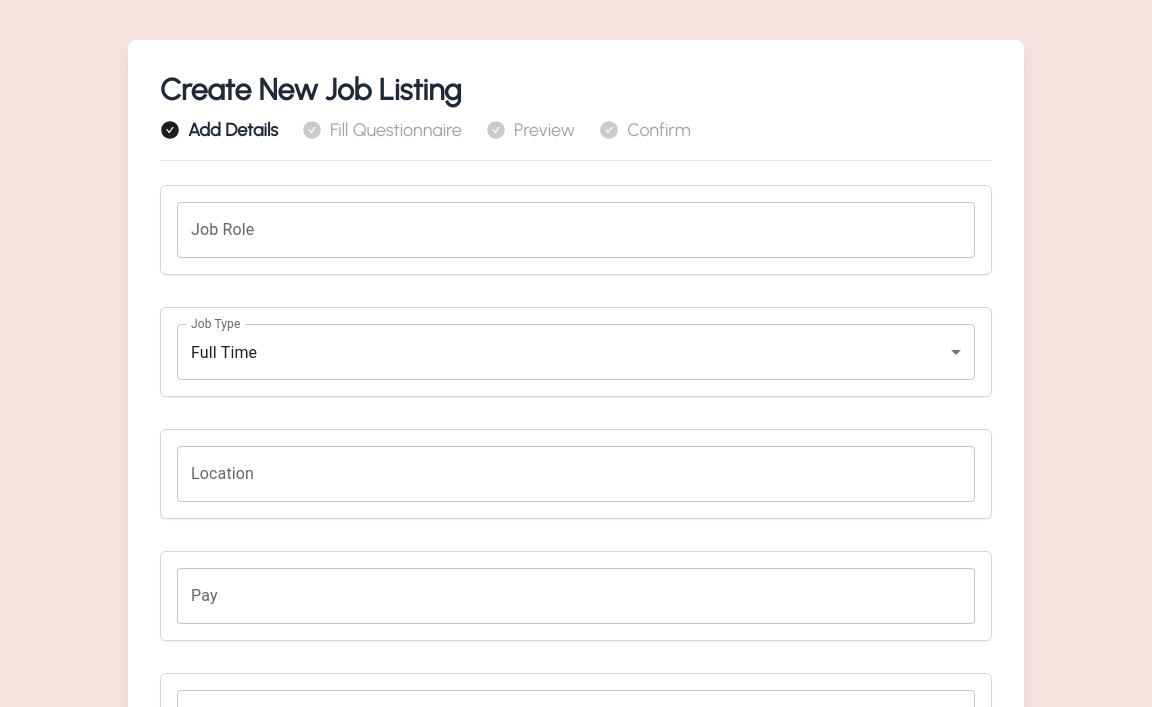
Test case: CreateJob Component › allows selecting job type from dropdown
# Open the dropdown for "Job Type"
Press the mouse on the dropdown named "Job Type" at (224, 352), box top-left (191, 342), bottom-right (257, 362)
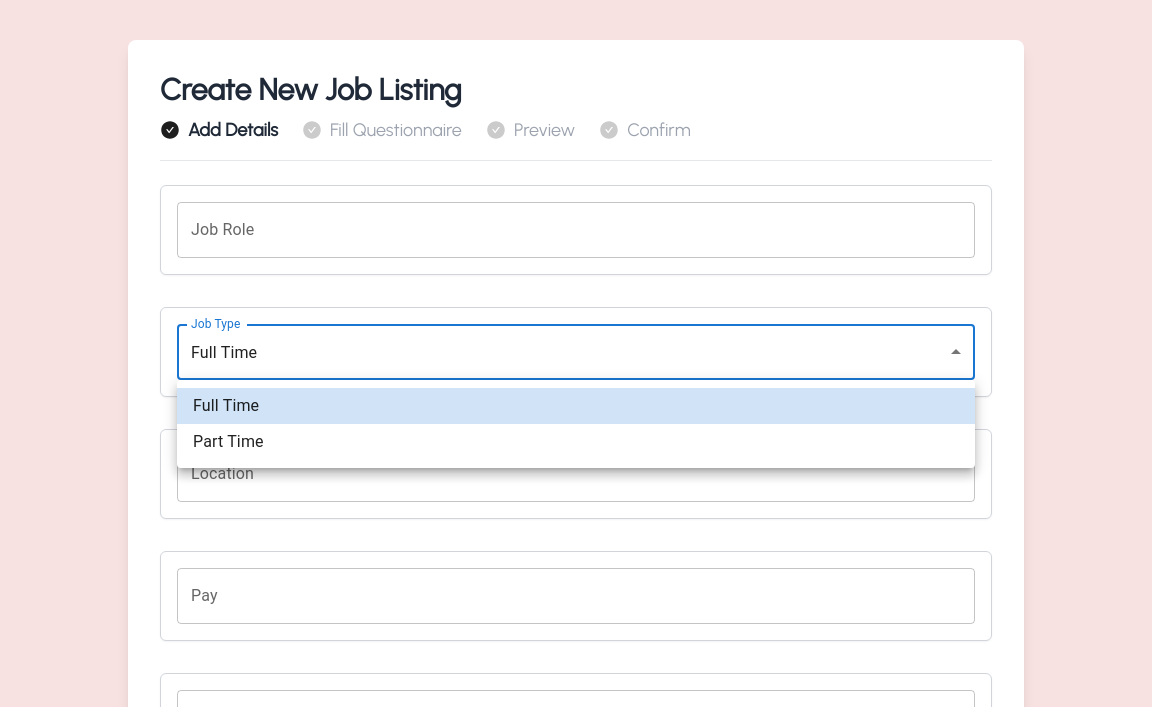
# Select "Part Time" from the dropdown options
Click the option "Part Time" at (228, 442), box top-left (193, 432), bottom-right (264, 451)
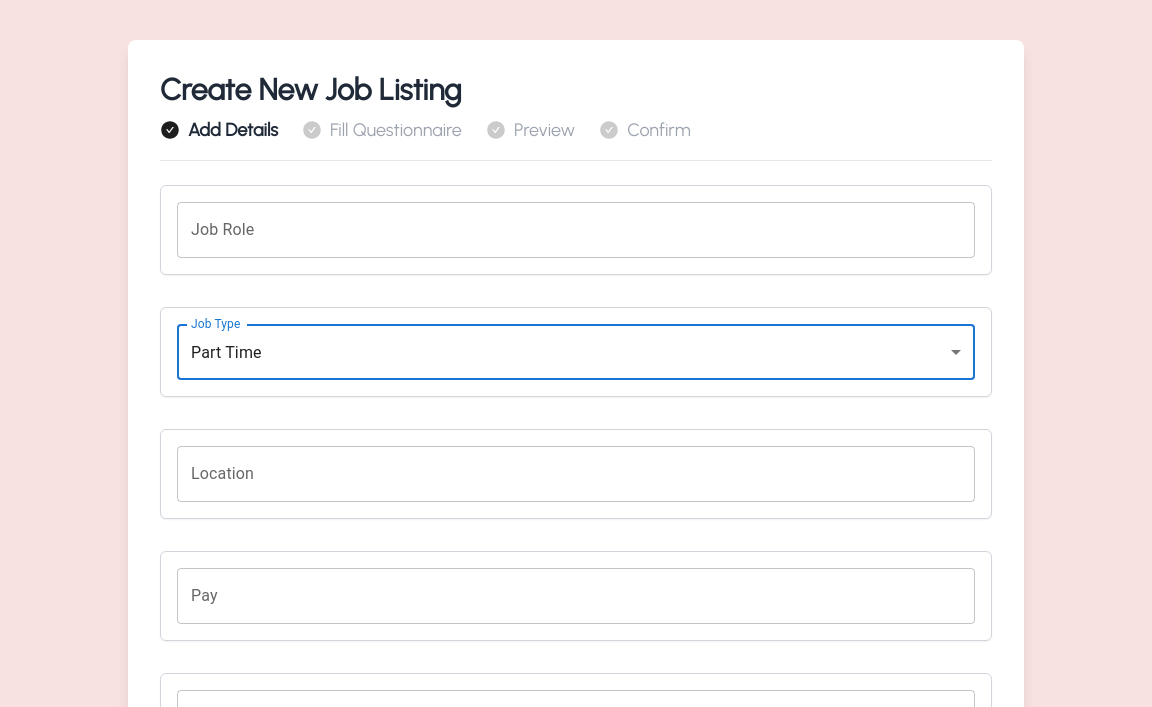
Expected: the dropdown named "Job Type" reads "Part Time", top-left (191, 342), bottom-right (262, 362)
